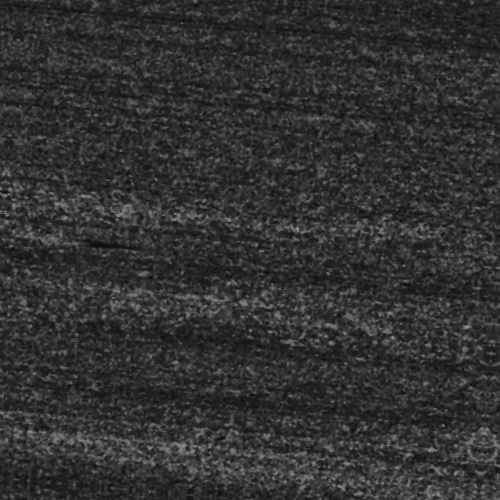object: (18, 250, 81, 257)
shadow: (49, 250, 137, 257)
